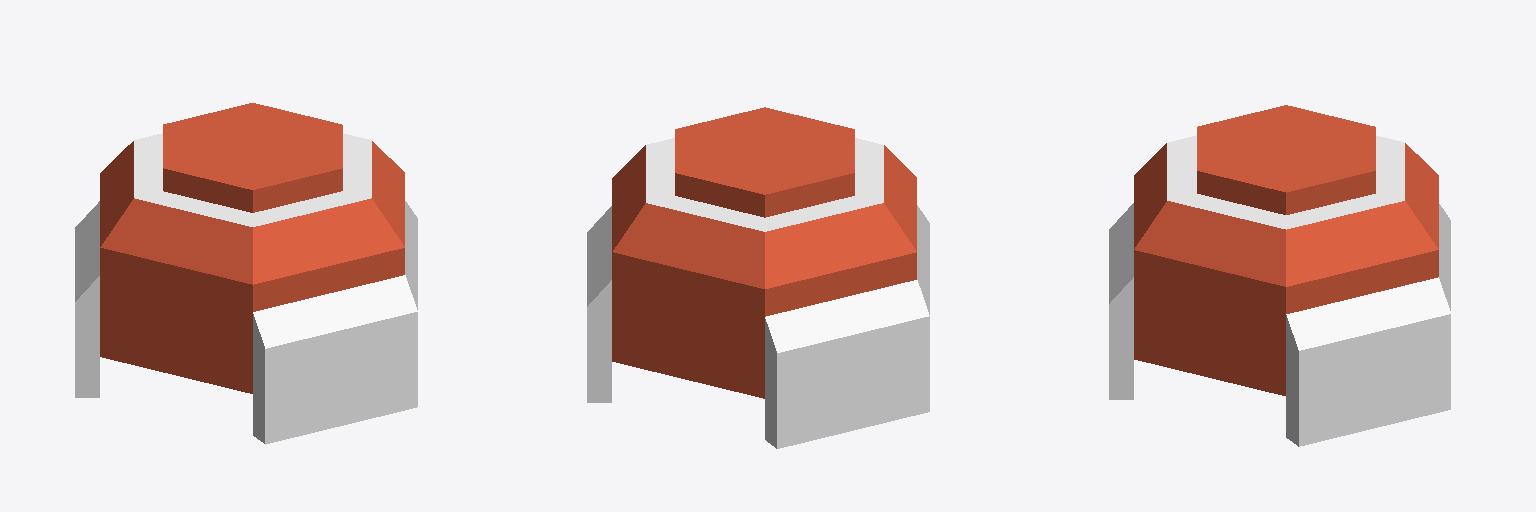
Rendered from barrelLarge.obj.
3 renders of one model, left to right at view 1: azimuth 30°, elevation 25°; view 2: azimuth 150°, elevation 25°; view 3: azimuth 270°, elevation 25°, orthographic.
Visible parts, largest first — view 1: barrelLarge; view 2: barrelLarge; view 3: barrelLarge.
Boxes of the visible parts, <box> form: barrelLarge: <box>75,103,417,444</box>; barrelLarge: <box>587,107,929,448</box>; barrelLarge: <box>1109,105,1450,446</box>.
Bounding box in the file's own units: 7.87 × 4.7 × 6.81.